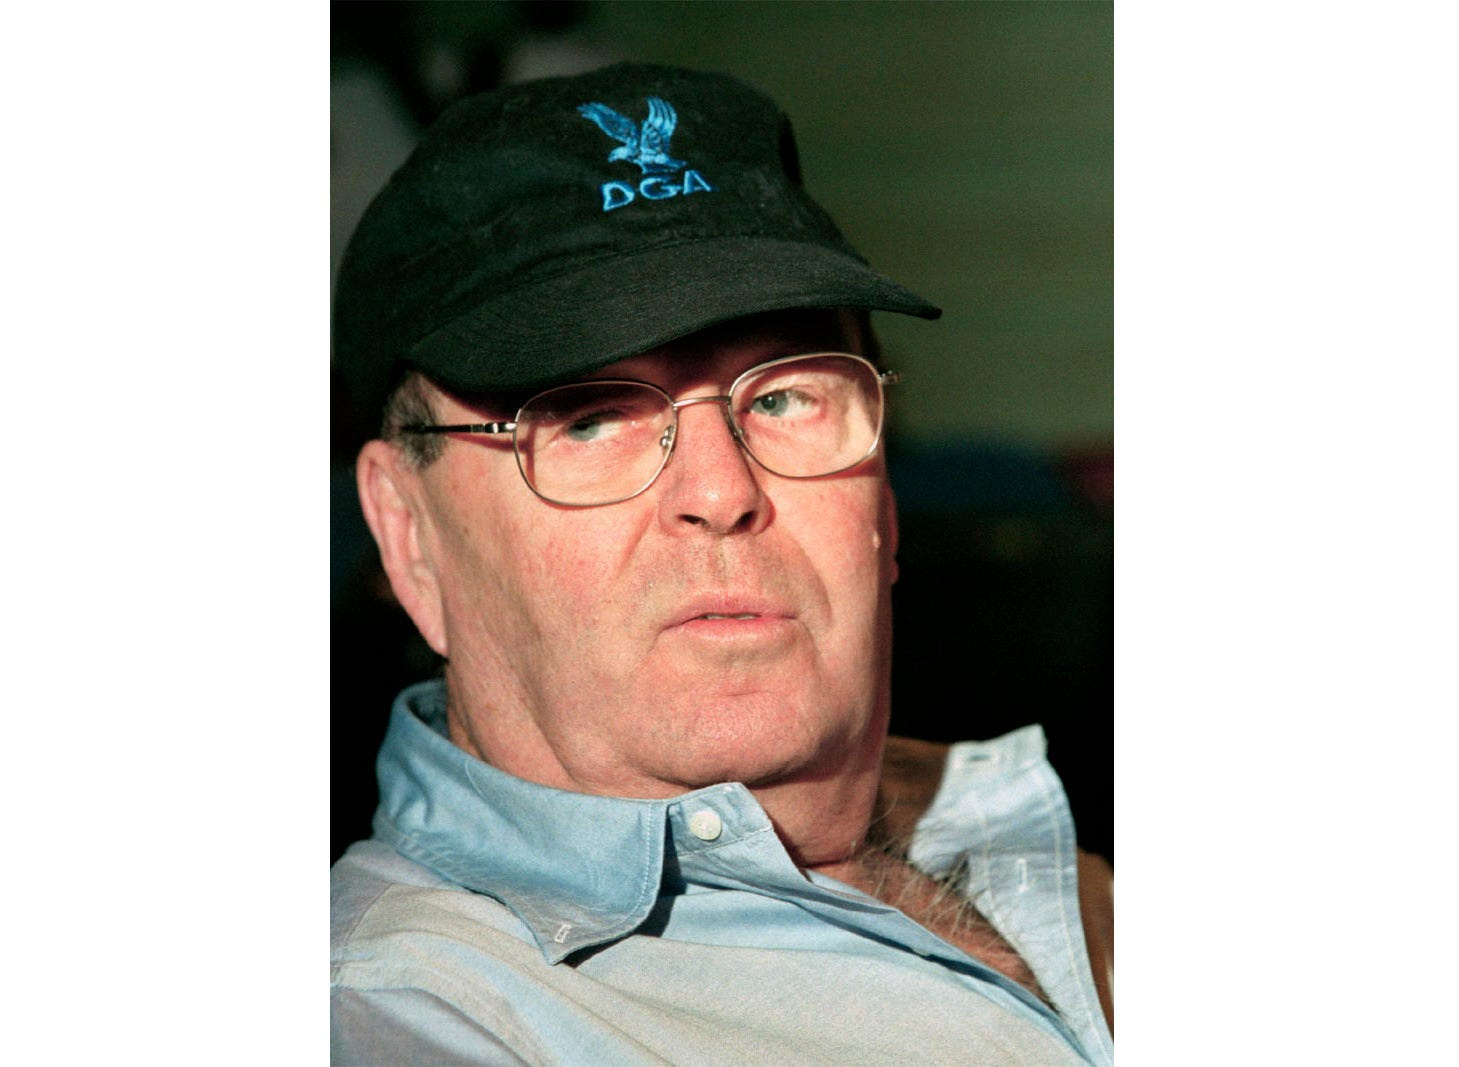bad: (451, 297, 913, 759)
